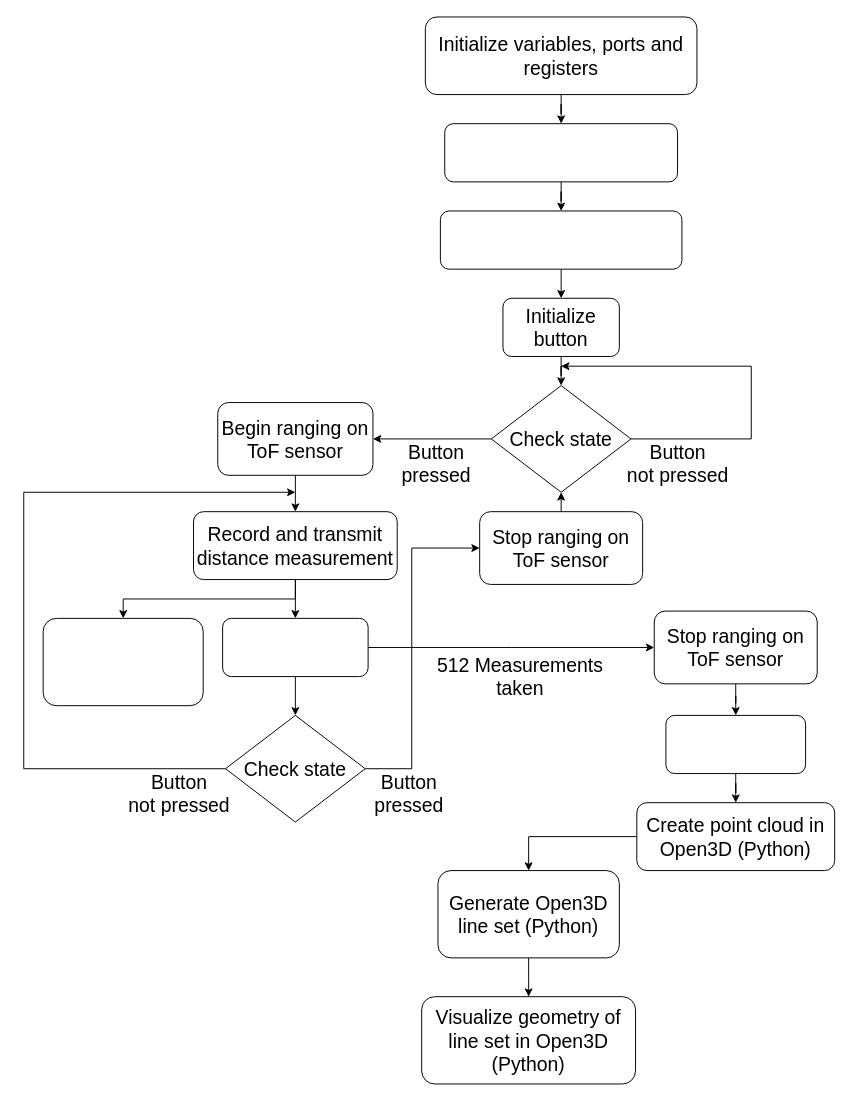
The diagram is 852 pixels wide and 1101 high, and some of its shapes have lost their labels. Each missing label, with the centre of its shape:
Boot and initialize ToF sensor: point (560, 239)
Close .xyz file (Python): point (735, 744)
Print welcome messages: point (561, 152)
Record data and write to .xyz file (Python): point (122, 661)
Rotate stepper motor: point (295, 647)
